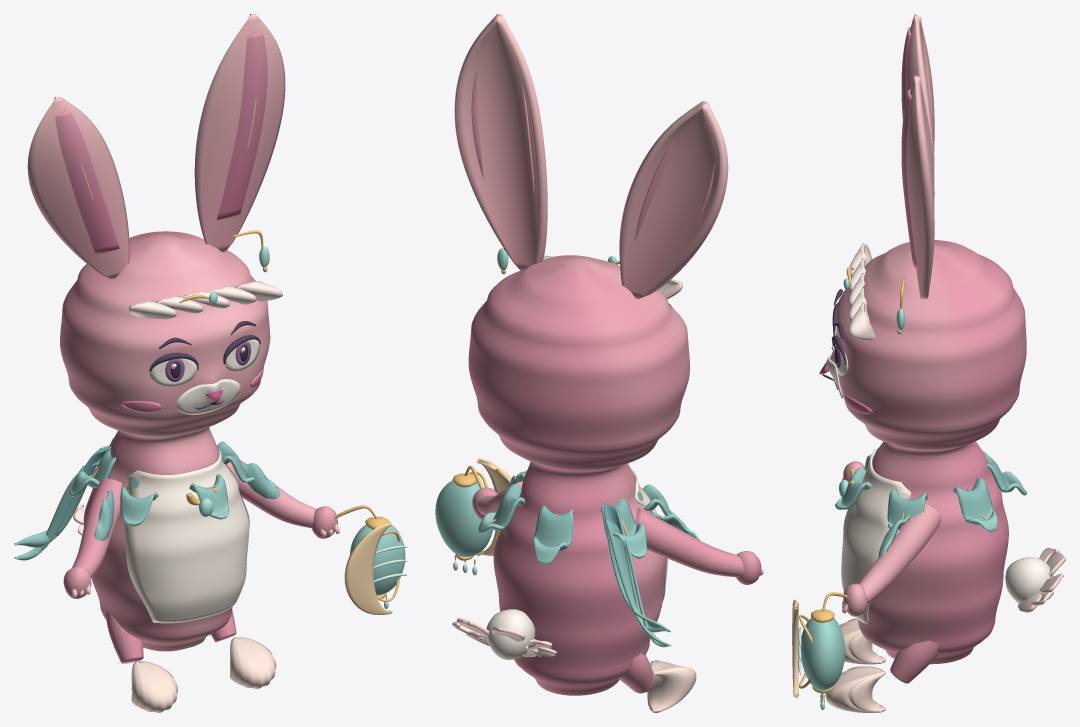
Rendered from rabbit.glb.
3 renders of one model, left to right at view 1: azimuth 30°, elevation 25°; view 2: azimuth 150°, elevation 25°; view 3: azimuth 270°, elevation 25°, orthographic. The views are drawn at different scales.
Visible parts, largest first — view 1: MoonLanternRabbit_0008; view 2: MoonLanternRabbit_0008; view 3: MoonLanternRabbit_0008.
Part boxes in pixels (x1,y1,x2,y2): MoonLanternRabbit_0008: (14, 14, 406, 712); MoonLanternRabbit_0008: (435, 14, 763, 712); MoonLanternRabbit_0008: (792, 14, 1065, 712).
Bounding box in the file's own units: 2.79 × 5.25 × 2.
